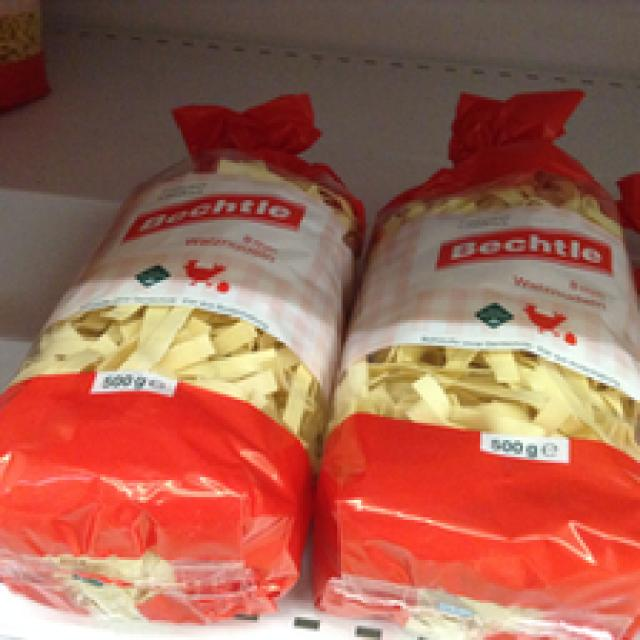groceries: (0, 89, 366, 612), (317, 85, 637, 626)
